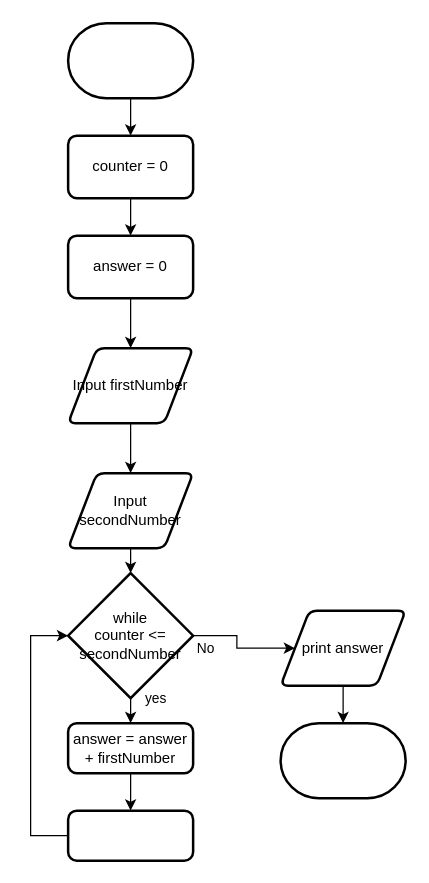
Image size: 429x883. Some labels were removed from this diagram. The box of each missing label's shape, as (x1, y1, x2, y2) in pixels:
counter++: (66, 809, 194, 861)
Start: (66, 21, 194, 99)
Stop: (279, 721, 406, 799)
